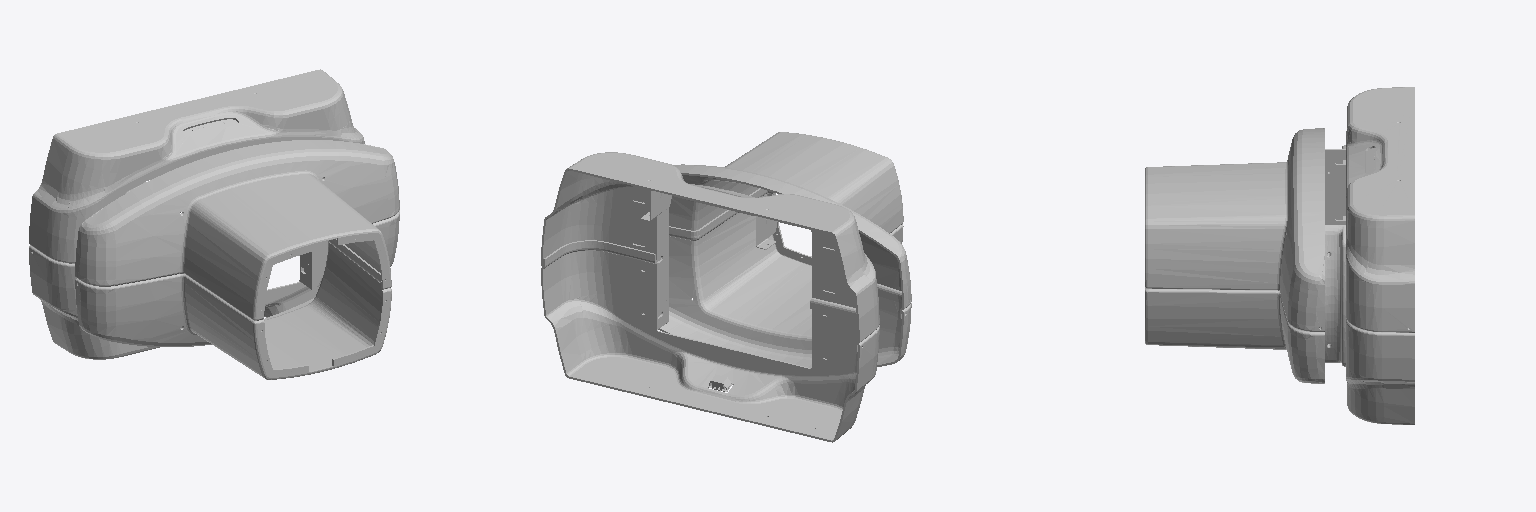
The model's file is movo_lower_body.obj.
The picture shows the model from 3 angles: view 1: azimuth 30°, elevation 25°; view 2: azimuth 150°, elevation 25°; view 3: azimuth 270°, elevation 25°; orthographic projection.
Size of the model in its own units: 0.8106 by 0.5097 by 0.5948.